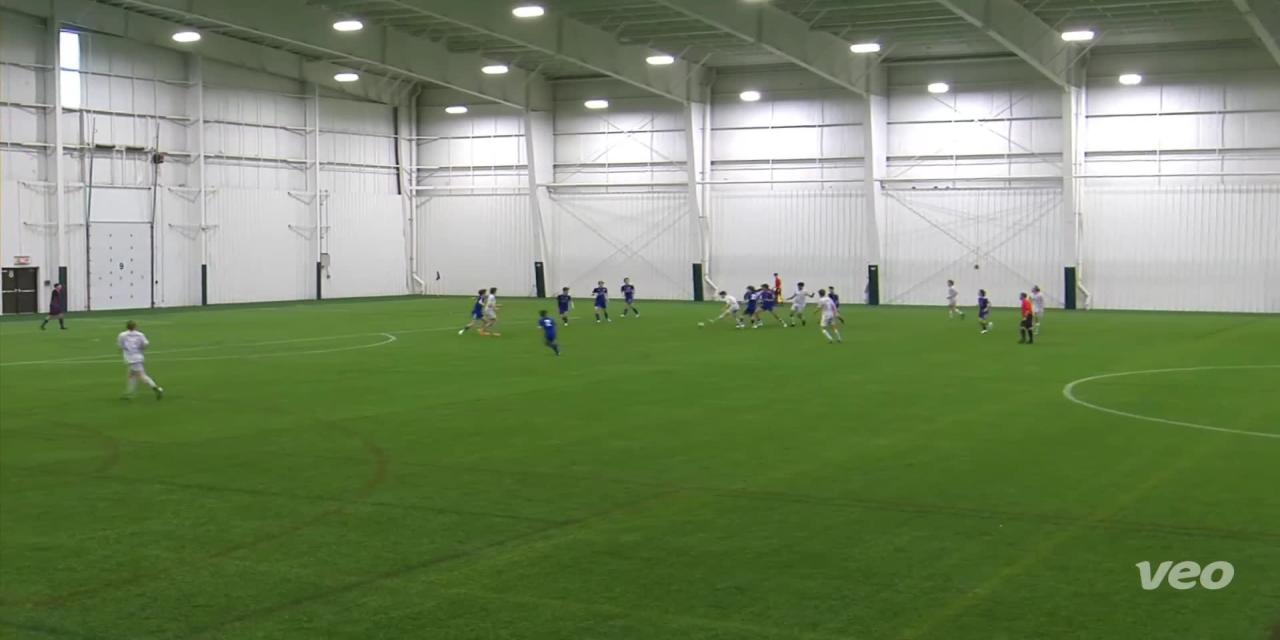sports ball: (693, 319, 707, 332)
